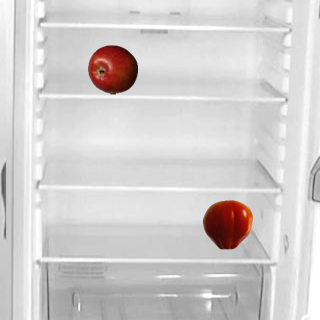Apple Braeburn: (87, 44, 137, 94)
Tomato 1: (202, 199, 252, 249)
